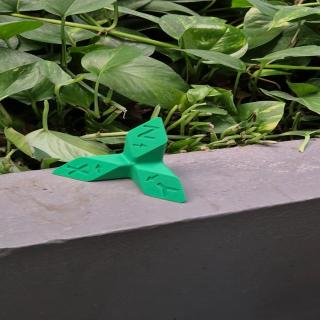eje: (49, 117, 189, 205)
